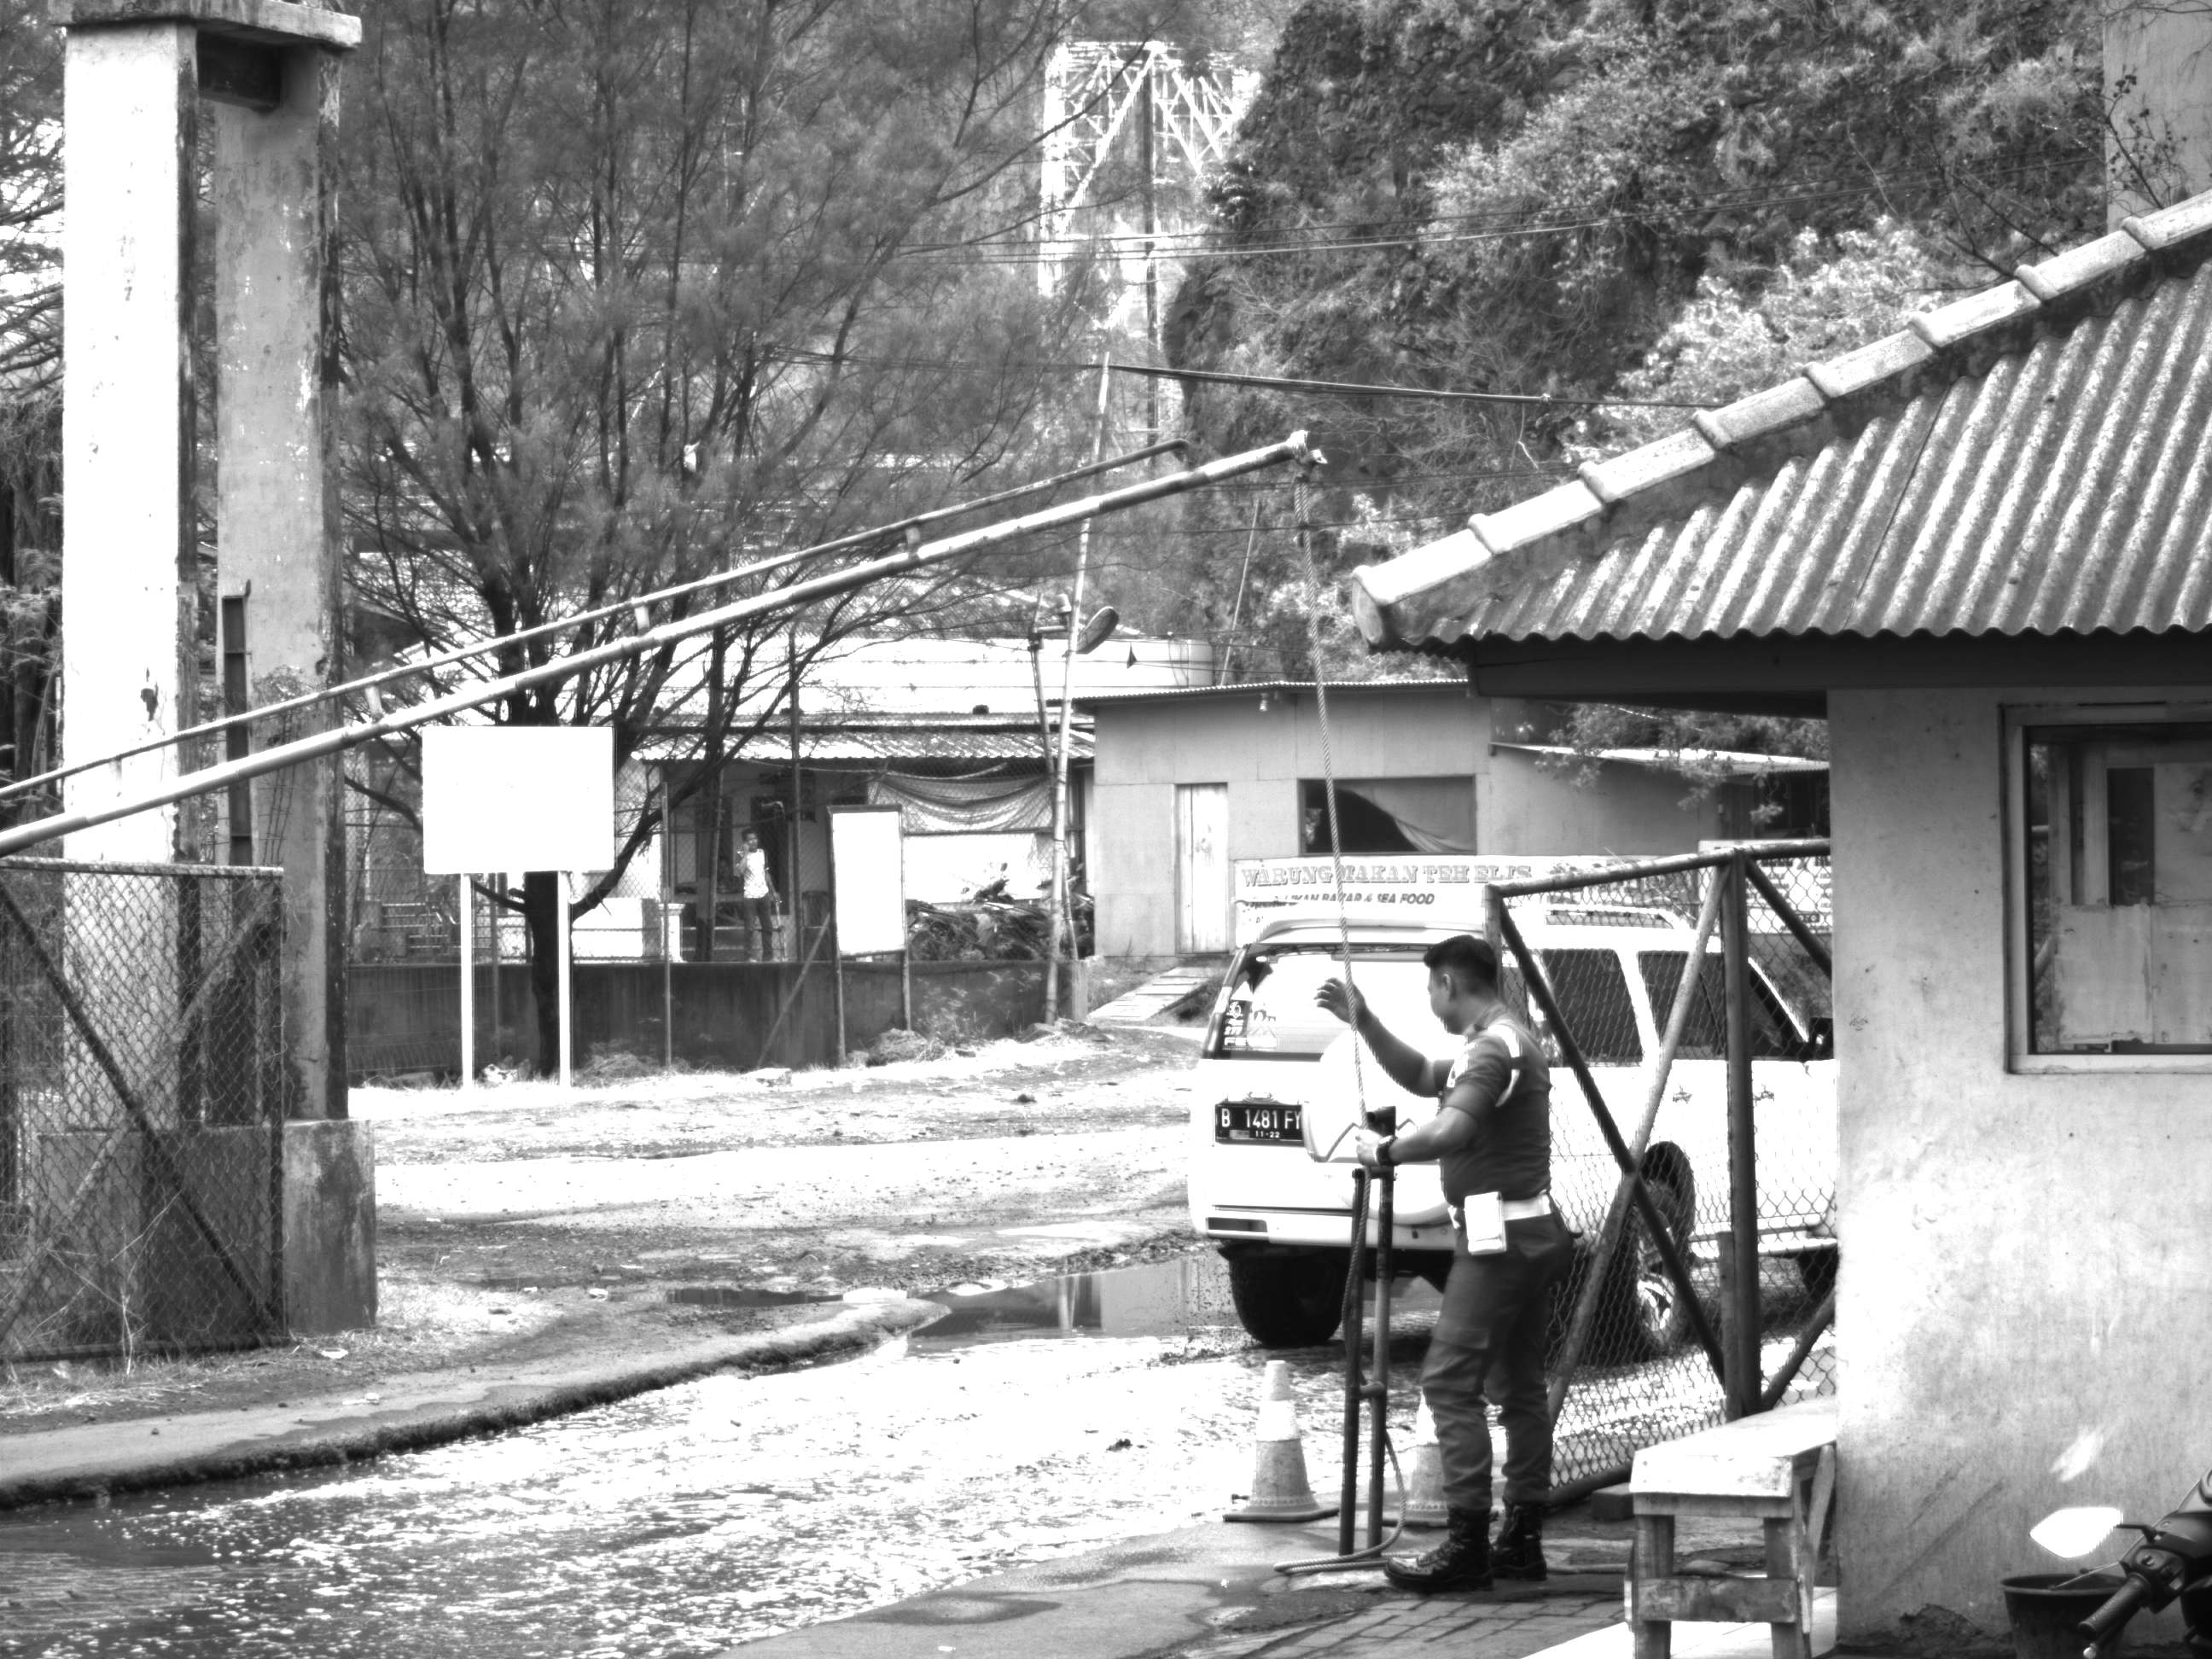plate: (1213, 1095, 1311, 1154)
